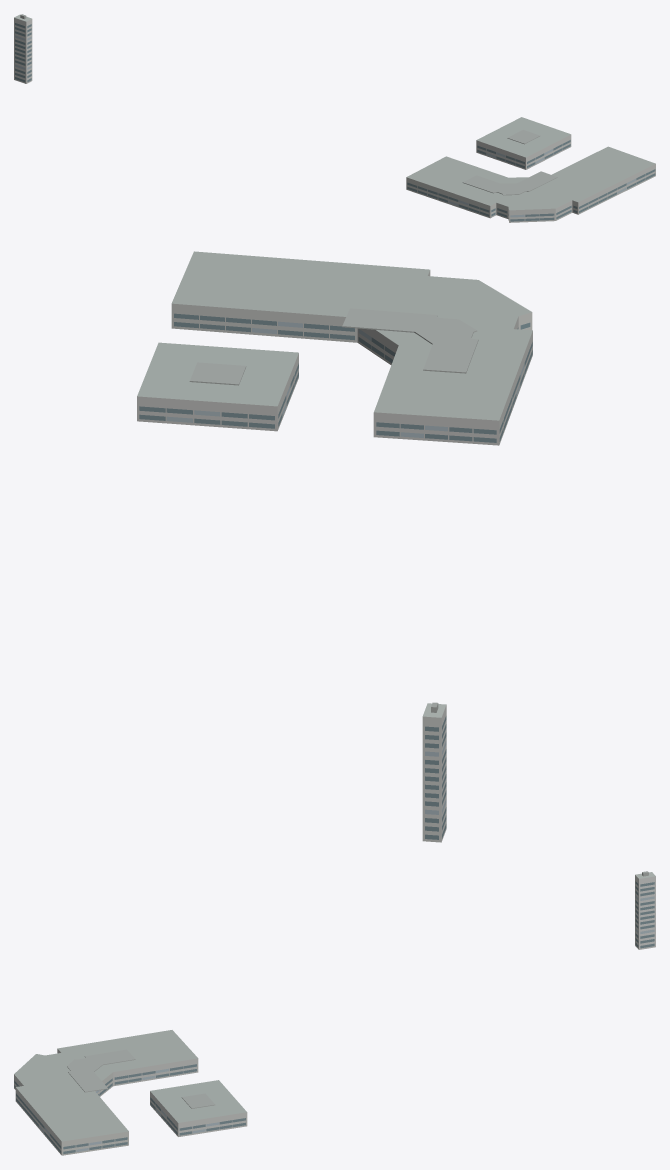
Rendered from apt-a13583507.glb.
3 views of the same model, one above another, from view 1: azimuth 30°, elevation 25°; view 2: azimuth 150°, elevation 25°; view 3: azimuth 270°, elevation 25° (orthographic). The views are drawn at different scales.
Parts seen in each view (by area): view 1: apt-a13583507; view 2: apt-a13583507; view 3: apt-a13583507.
Boxes of the visible parts, x1,y1,x2,y2 form: apt-a13583507: [14, 14, 655, 222]; apt-a13583507: [137, 251, 532, 842]; apt-a13583507: [14, 871, 655, 1155].
Bounding box in the file's own units: 294 × 47.81 × 375.
